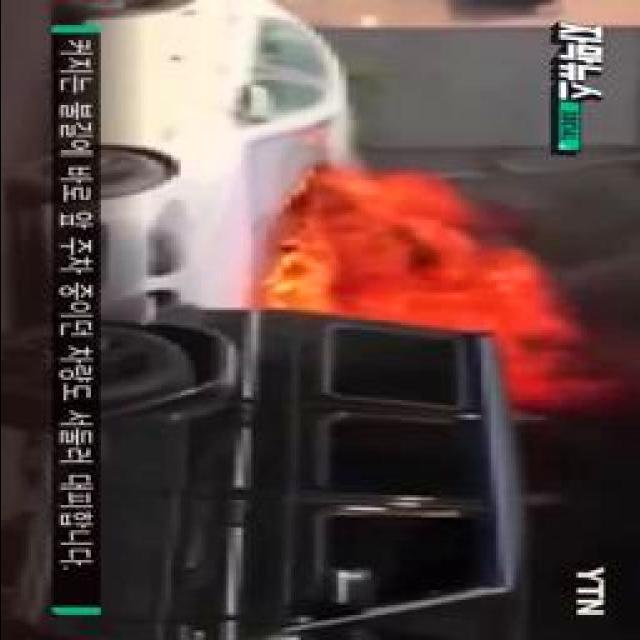Fire: (266, 185, 558, 338)
